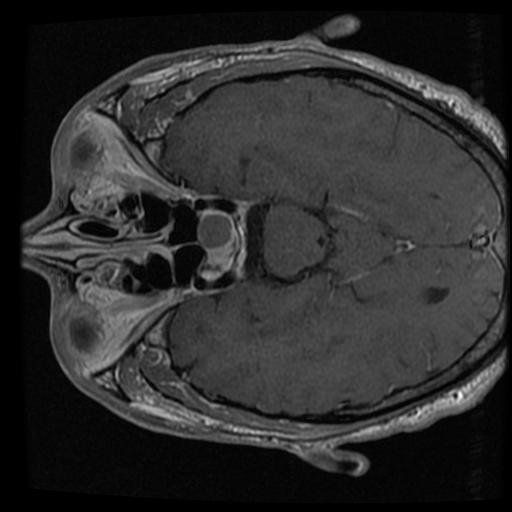pituitary tumour: (198, 212, 234, 261)
